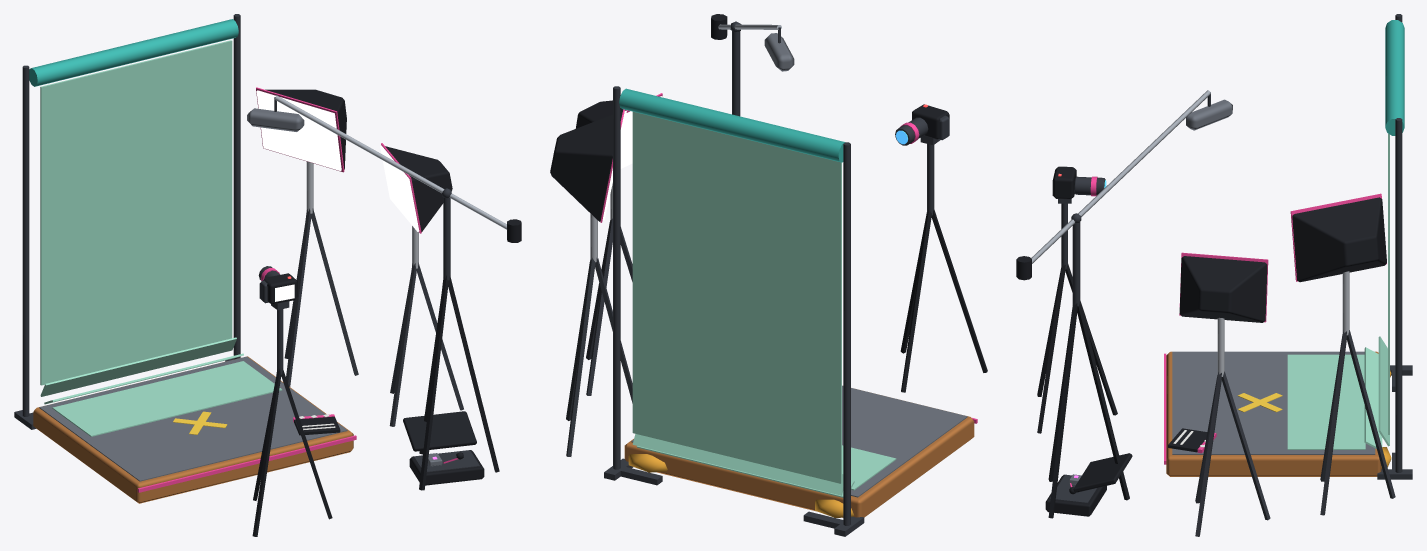
The model's file is station_buffer_1.glb.
3 renders of one model, left to right at view 1: azimuth 30°, elevation 25°; view 2: azimuth 150°, elevation 25°; view 3: azimuth 270°, elevation 25°, orthographic. The views are drawn at different scales.
Parts seen in each view (by area): view 1: station_buffer_1; view 2: station_buffer_1; view 3: station_buffer_1.
Boxes of the visible parts, x1,y1,x2,y2 form: station_buffer_1: (14, 14, 521, 536); station_buffer_1: (550, 14, 987, 536); station_buffer_1: (1016, 14, 1412, 536).
Bounding box in the file's own units: 2.05 × 2.03 × 2.03.
